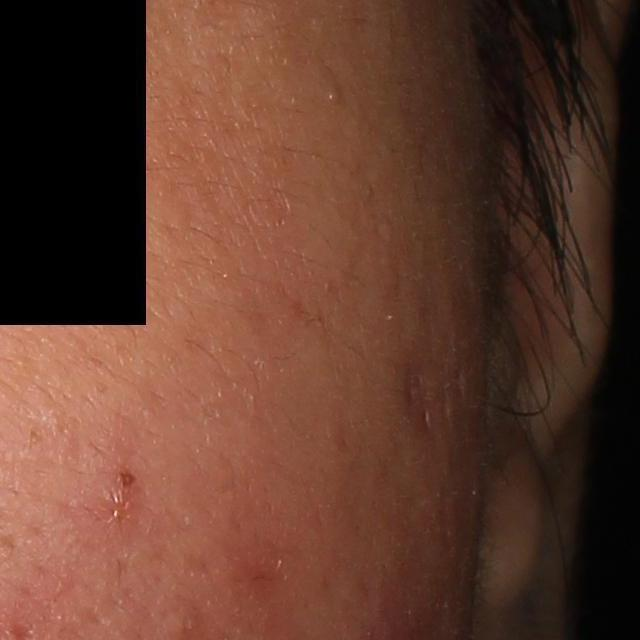comedo: (323, 77, 344, 106)
